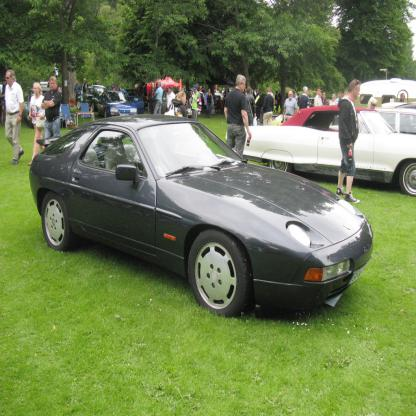Car: (29, 90, 375, 315), (223, 102, 416, 196), (374, 105, 415, 139), (98, 89, 146, 116), (75, 85, 106, 112)
